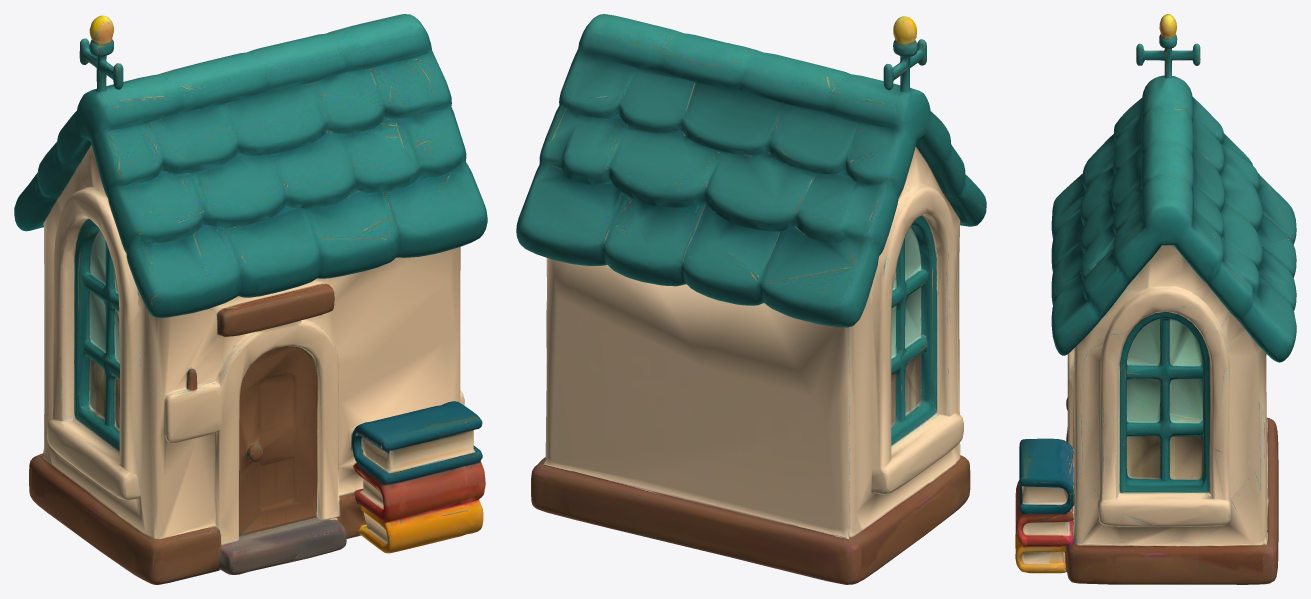
File: bld_macrodoc.glb
3 renders of one model, left to right at view 1: azimuth 30°, elevation 25°; view 2: azimuth 150°, elevation 25°; view 3: azimuth 270°, elevation 25°, orthographic. The views are drawn at different scales.
Size of the model in its own units: 1.32 by 1.91 by 1.1.
Materials: 1 (1 with a texture image).
